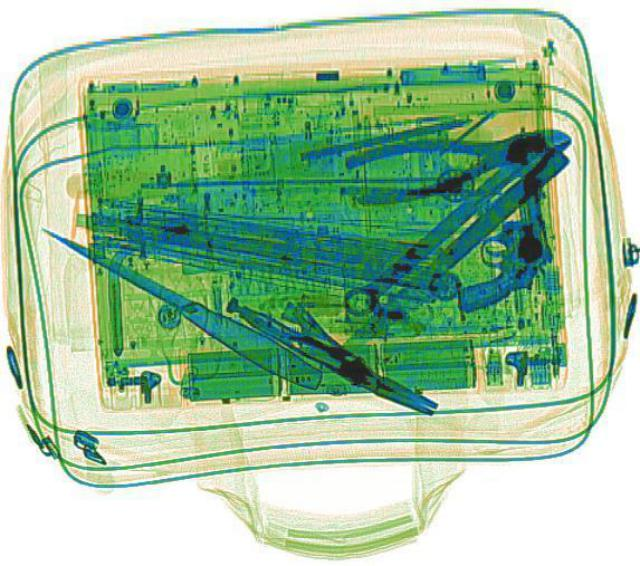Gun: (442, 151, 556, 311)
Knife: (316, 145, 570, 365), (30, 217, 326, 389)
Pliers: (340, 111, 578, 208)
